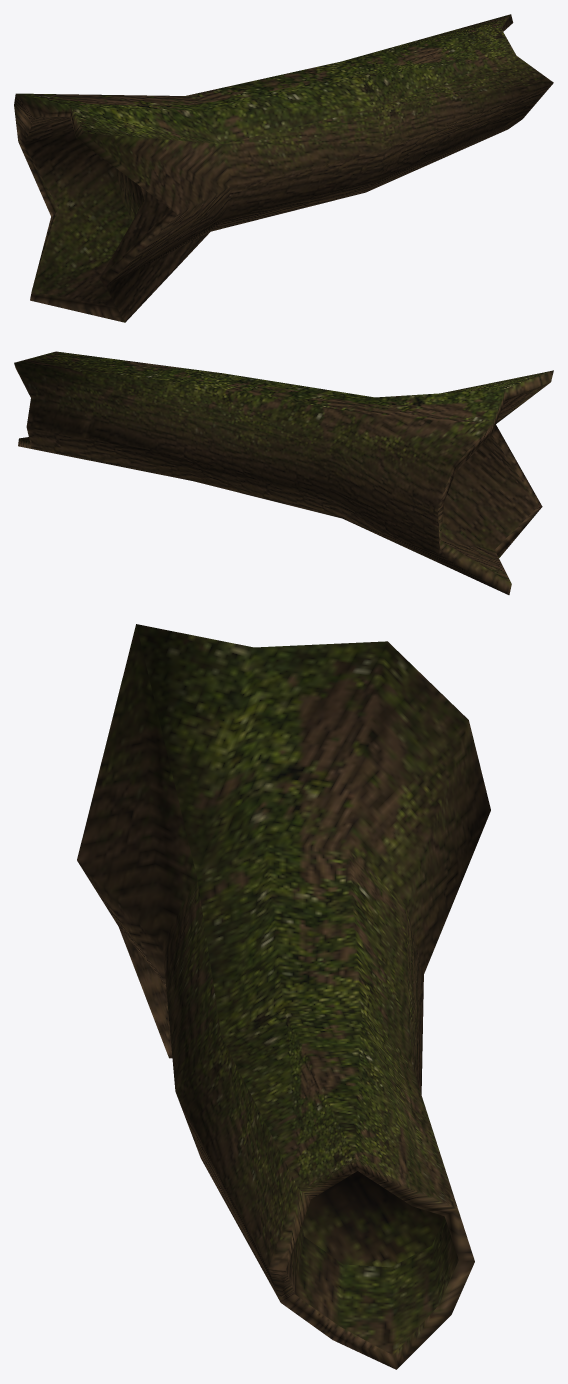
The model's file is OakBreakB.glb.
The picture shows the model from 3 angles, top to bottom: view 1: azimuth 30°, elevation 25°; view 2: azimuth 150°, elevation 25°; view 3: azimuth 270°, elevation 25°; orthographic projection. The views are drawn at different scales.
Visible parts, largest first — view 1: OakBreakB.001; view 2: OakBreakB.001; view 3: OakBreakB.001.
Part boxes in pixels (left/top/right/bottom): OakBreakB.001: left=14, top=14, right=553, bottom=322; OakBreakB.001: left=14, top=351, right=553, bottom=594; OakBreakB.001: left=77, top=624, right=490, bottom=1369.
Size of the model in its own units: 7.87 by 3.07 by 2.97.
Materials: 1 (1 with a texture image).
